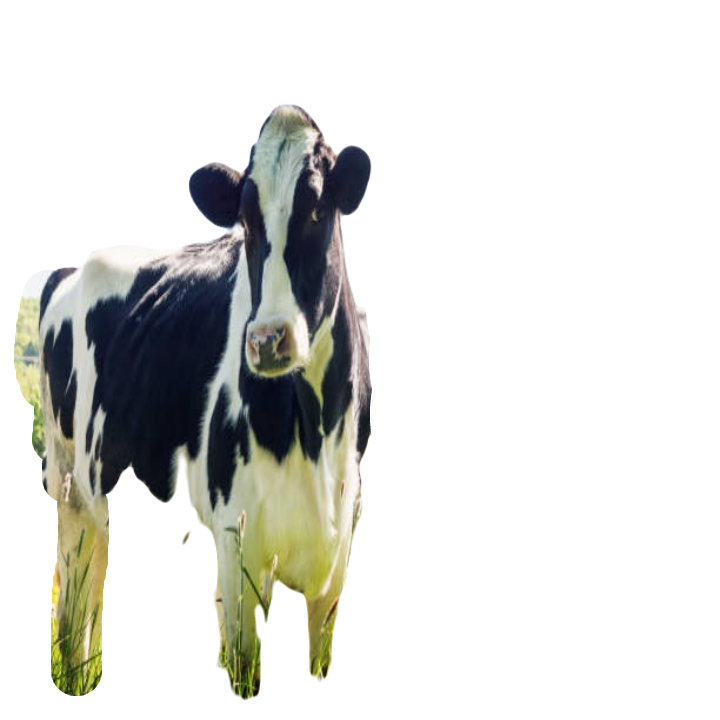Cow: (35, 103, 378, 695)
